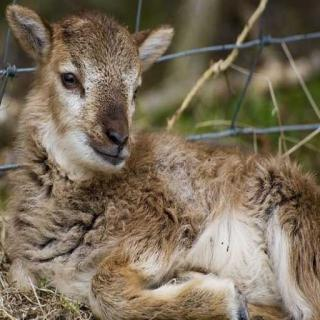Pig: (119, 117, 319, 320), (14, 0, 151, 236)
